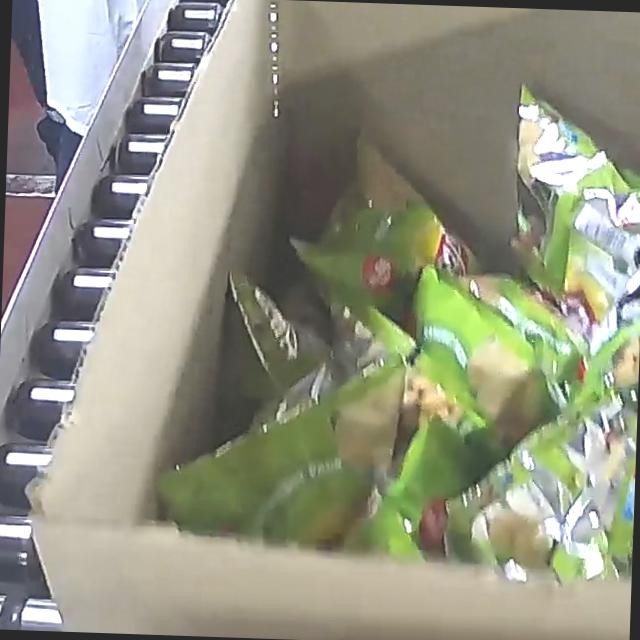yogurt: (150, 67, 640, 585)
